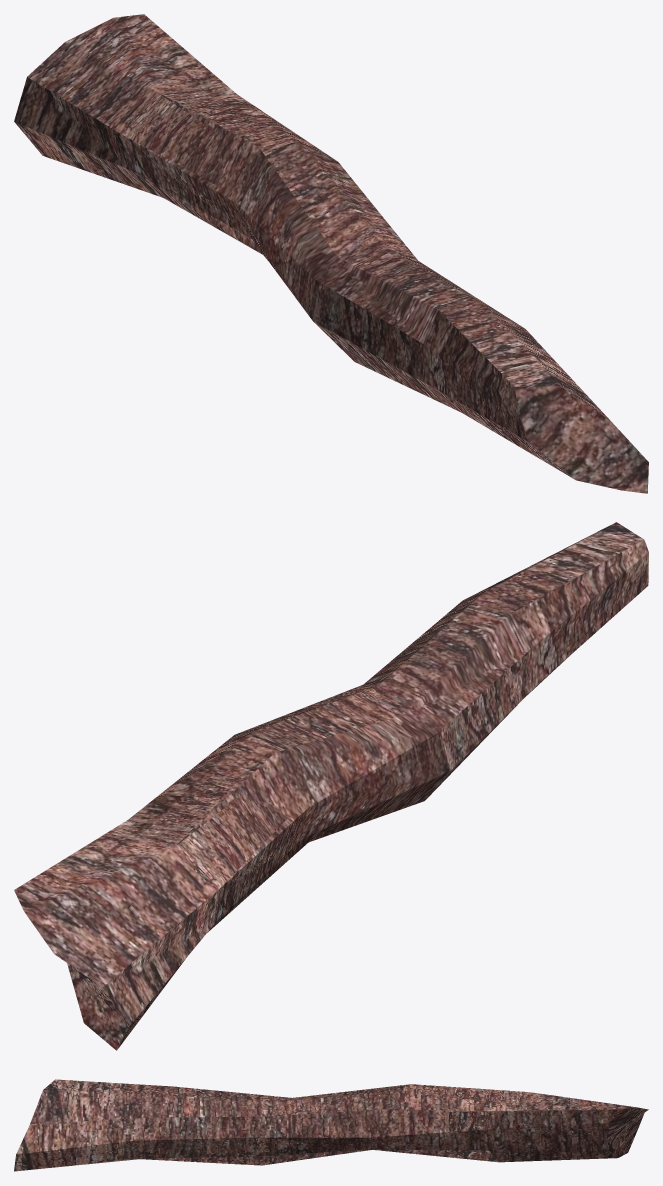
The model's file is FallenTree.FBX.
3 views of the same model, one above another, from view 1: azimuth 30°, elevation 25°; view 2: azimuth 150°, elevation 25°; view 3: azimuth 270°, elevation 25° (orthographic). The views are drawn at different scales.
Visible parts, largest first — view 1: Cylinder01, Cylinder02; view 2: Cylinder01, Cylinder02; view 3: Cylinder01, Cylinder02.
Boxes of the visible parts, x1,y1,x2,y2 form: Cylinder01: (14,14,648,493); Cylinder02: (120,91,417,306); Cylinder01: (14,522,648,1050); Cylinder02: (142,656,515,890); Cylinder01: (14,1079,648,1171); Cylinder02: (251,1087,529,1158).
Size of the model in its own units: 35.98 by 247 by 35.
